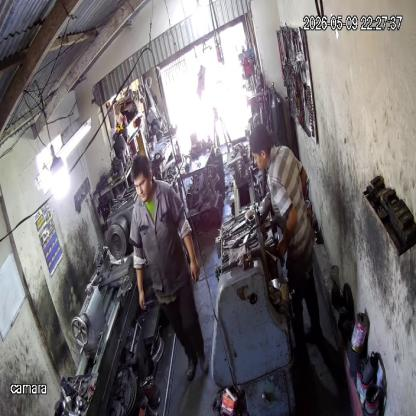sin_lentes: (131, 180, 147, 190)
